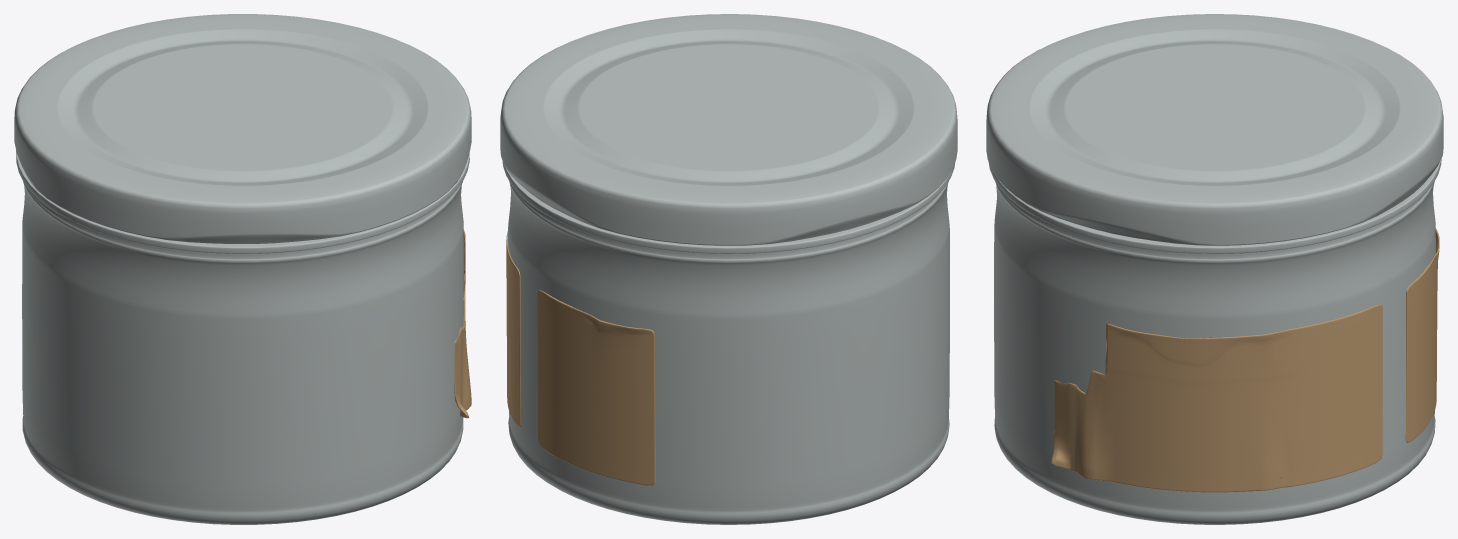
Rendered from paint_container_jar_pink_a01.glb.
3 views of the same model, side by side, from view 1: azimuth 30°, elevation 25°; view 2: azimuth 150°, elevation 25°; view 3: azimuth 270°, elevation 25° (orthographic).
Size of the model in its own units: 0.0969 by 0.0769 by 0.0969.
